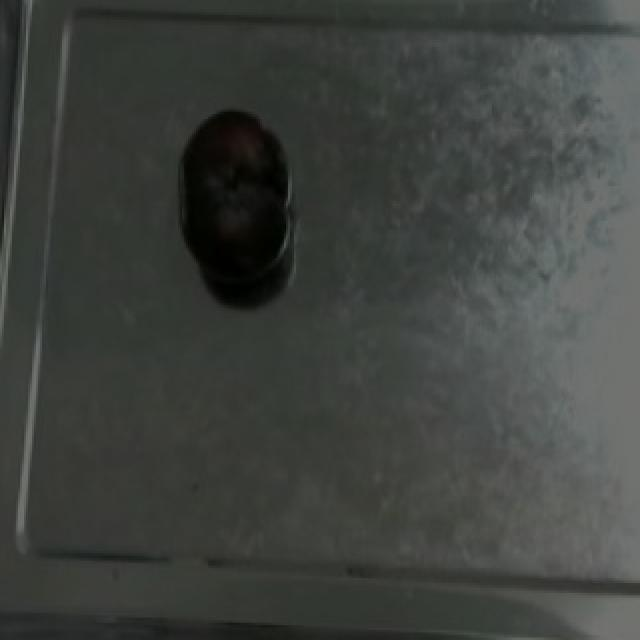Fruit: (174, 99, 294, 295)
